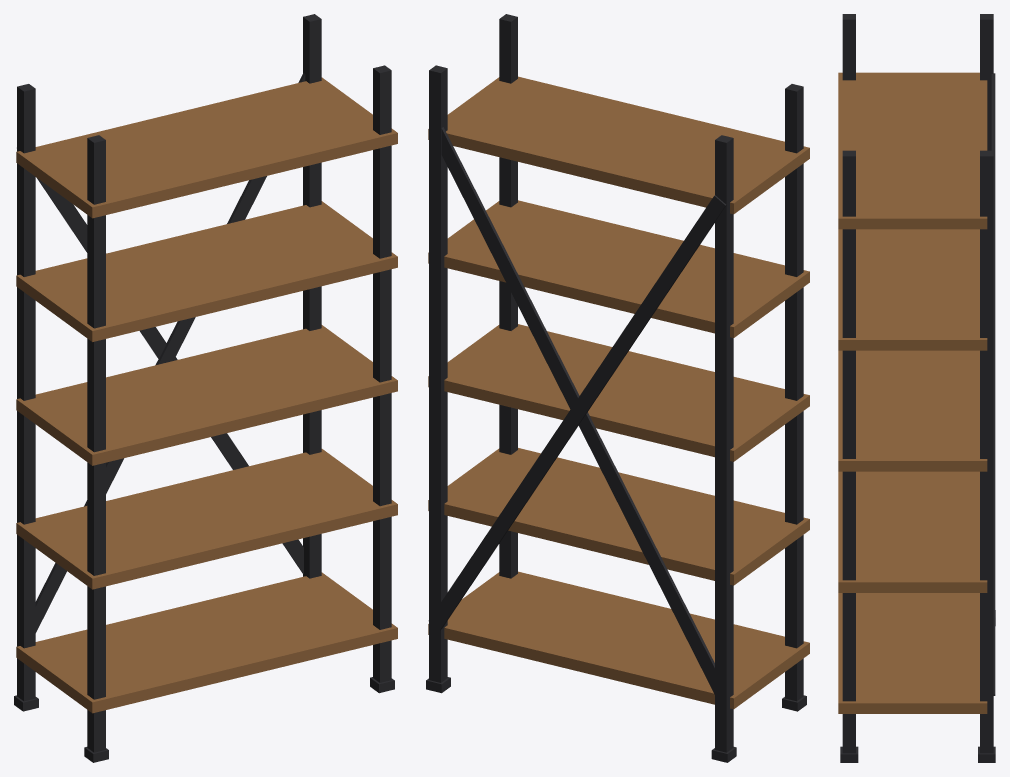
Rendered from FN_Shelf_Etagere.glb.
3 renders of one model, left to right at view 1: azimuth 30°, elevation 25°; view 2: azimuth 150°, elevation 25°; view 3: azimuth 270°, elevation 25°, orthographic. The views are drawn at different scales.
Visible parts, largest first — view 1: FN_Shelf_Etagere; view 2: FN_Shelf_Etagere; view 3: FN_Shelf_Etagere.
Part boxes in pixels (<box>): FN_Shelf_Etagere: <box>14,14,397,762</box>; FN_Shelf_Etagere: <box>426,14,809,762</box>; FN_Shelf_Etagere: <box>838,14,995,762</box>.
Bounding box in the file's own units: 0.93 × 1.8 × 0.424.
1 material, 1 textured.
